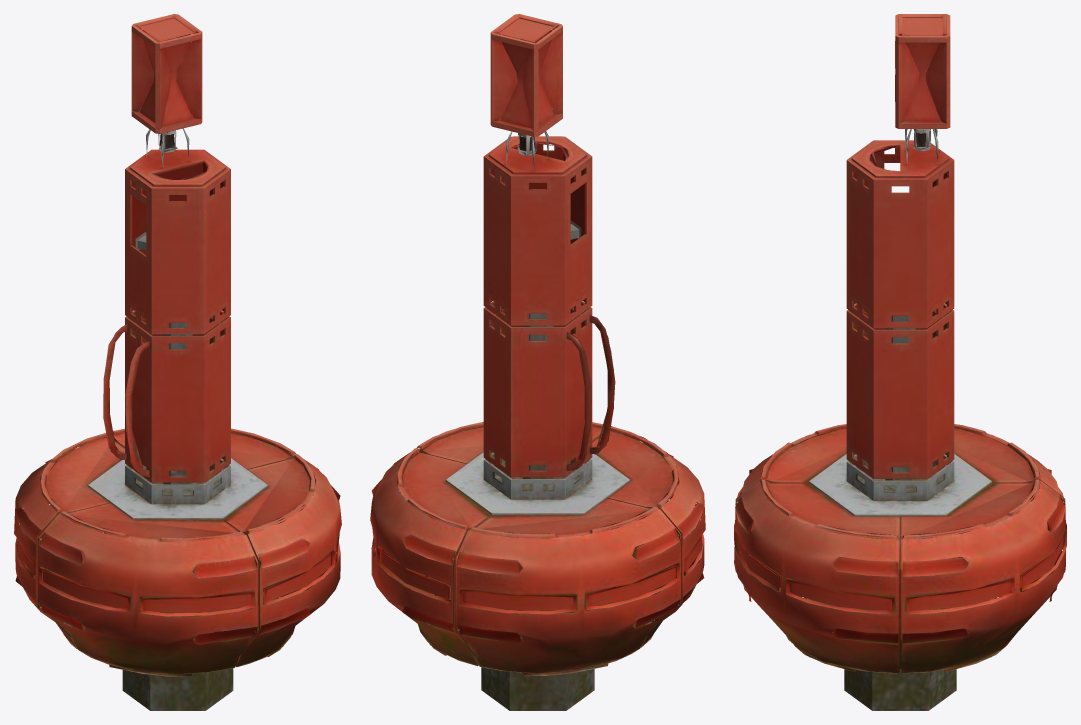
The model's file is lateral_sea_marker.gltf.
The picture shows the model from 3 angles, left to right: view 1: azimuth 30°, elevation 25°; view 2: azimuth 150°, elevation 25°; view 3: azimuth 270°, elevation 25°; orthographic projection. The views are drawn at different scales.
Parts seen in each view (by area): view 1: lateral_sea_marker; view 2: lateral_sea_marker; view 3: lateral_sea_marker.
Boxes of the visible parts, x1,y1,x2,y2 form: lateral_sea_marker: [14, 14, 341, 710]; lateral_sea_marker: [370, 14, 705, 710]; lateral_sea_marker: [734, 14, 1066, 710].
Bounding box in the file's own units: 3.03 × 6.85 × 3.03.
Materials: 1 (1 with a texture image).
